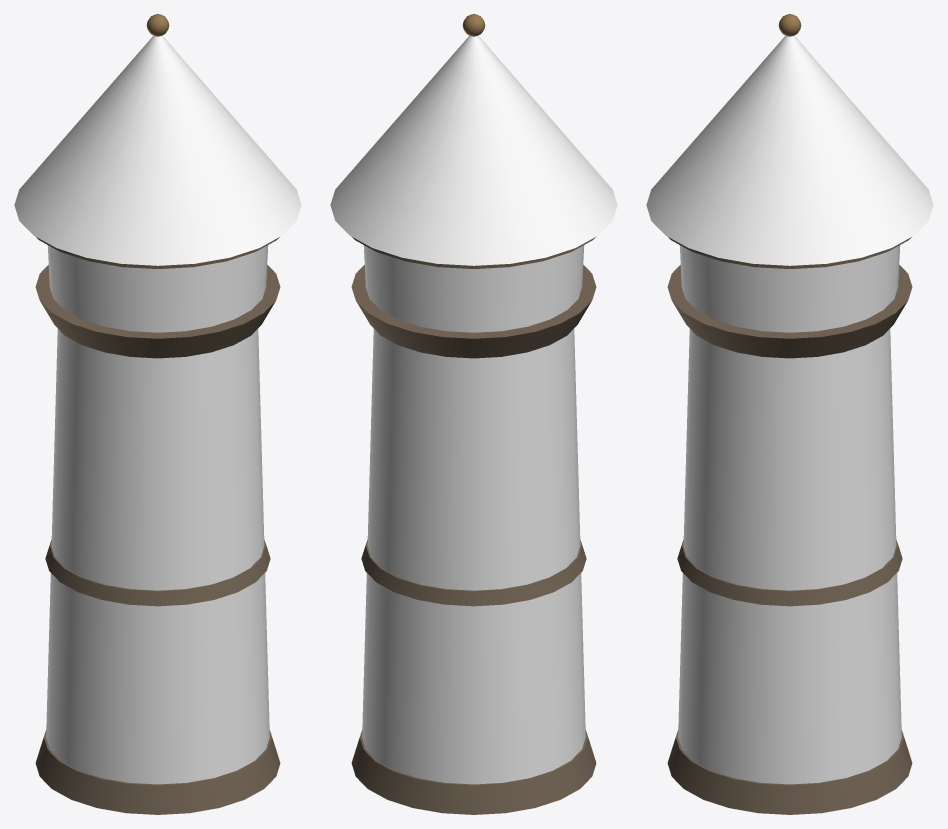
File: cartography-tower.glb
3 renders of one model, left to right at view 1: azimuth 30°, elevation 25°; view 2: azimuth 150°, elevation 25°; view 3: azimuth 270°, elevation 25°, orthographic.
Visible parts, largest first — view 1: StoneBody, ShingledSpire, UpperDrum, StoneFoot, UpperCornice, LowerBelt, RoofEave; view 2: StoneBody, ShingledSpire, UpperDrum, StoneFoot, UpperCornice, LowerBelt, RoofEave; view 3: StoneBody, ShingledSpire, UpperDrum, StoneFoot, UpperCornice, LowerBelt, RoofEave.
Boxes of the visible parts, x1,y1,x2,y2 form: StoneBody: [46, 328, 269, 784]; ShingledSpire: [14, 35, 301, 265]; UpperDrum: [47, 245, 268, 332]; StoneFoot: [35, 730, 280, 814]; UpperCornice: [35, 265, 280, 358]; LowerBelt: [45, 540, 270, 606]; RoofEave: [36, 237, 279, 268]; StoneBody: [362, 328, 585, 784]; ShingledSpire: [330, 35, 617, 265]; UpperDrum: [363, 245, 584, 332]; StoneFoot: [351, 730, 596, 814]; UpperCornice: [351, 265, 596, 358]; LowerBelt: [361, 540, 586, 606]; RoofEave: [352, 237, 595, 268]; StoneBody: [678, 328, 901, 784]; ShingledSpire: [646, 35, 933, 265]; UpperDrum: [679, 245, 900, 332]; StoneFoot: [667, 730, 912, 814]; UpperCornice: [667, 265, 912, 358]; LowerBelt: [677, 540, 902, 606]; RoofEave: [668, 237, 911, 268].
Size of the model in its own units: 3.8 by 10.92 by 3.8.
